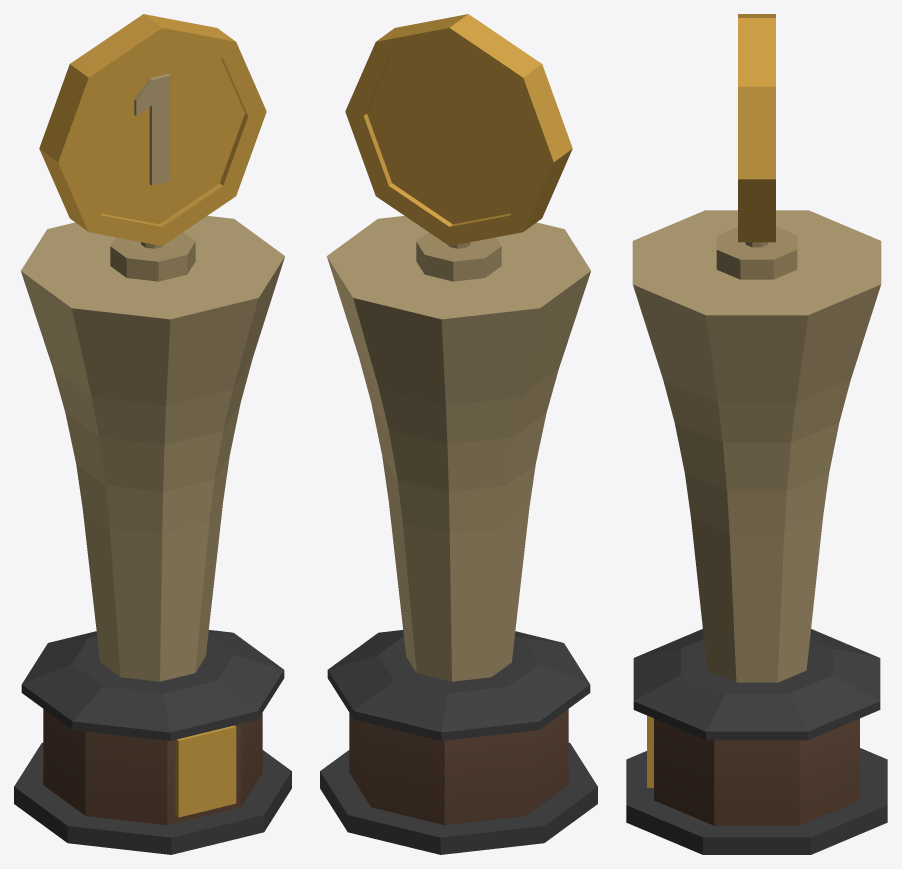
File: Reward_02.fbx
The picture shows the model from 3 angles, left to right: view 1: azimuth 30°, elevation 25°; view 2: azimuth 150°, elevation 25°; view 3: azimuth 270°, elevation 25°; orthographic projection.
Visible parts, largest first — view 1: Reward_02; view 2: Reward_02; view 3: Reward_02.
Boxes of the visible parts, bbox=[...] form: Reward_02: bbox=[14, 14, 291, 854]; Reward_02: bbox=[320, 14, 597, 854]; Reward_02: bbox=[626, 14, 887, 854].
Bounding box in the file's own units: 11.4 × 37.67 × 11.4.
